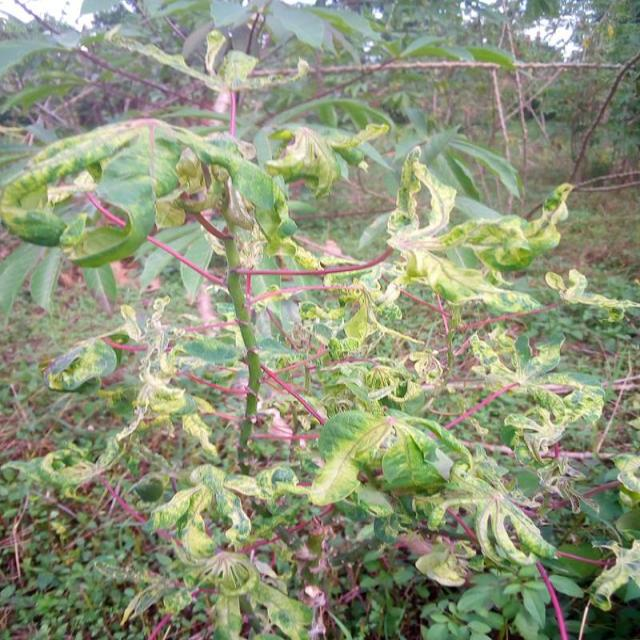cassava leaf: (1, 115, 296, 272)
